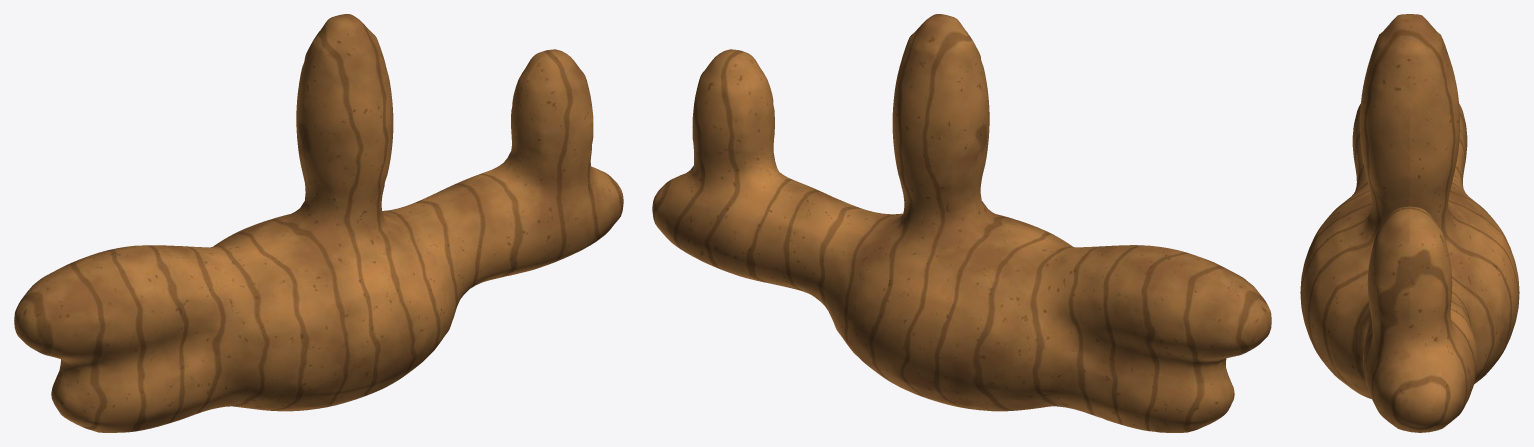
File: curcuma.glb
3 renders of one model, left to right at view 1: azimuth 30°, elevation 25°; view 2: azimuth 150°, elevation 25°; view 3: azimuth 270°, elevation 25°, orthographic. The views are drawn at different scales.
Visible parts, largest first — view 1: moitie_A_peau, entier_peau, moitie_B_peau; view 2: moitie_B_peau, entier_peau, moitie_A_peau; view 3: entier_peau, moitie_B_peau, moitie_A_peau.
Boxes of the visible parts, left/top/right/bottom form: moitie_A_peau: left=19, top=20, right=623, bottom=432; entier_peau: left=14, top=14, right=621, bottom=432; moitie_B_peau: left=14, top=14, right=617, bottom=413; moitie_B_peau: left=652, top=17, right=1266, bottom=432; entier_peau: left=652, top=14, right=1270, bottom=432; moitie_A_peau: left=721, top=14, right=1271, bottom=413; entier_peau: left=1300, top=14, right=1519, bottom=432; moitie_B_peau: left=1410, top=14, right=1518, bottom=432; moitie_A_peau: left=1300, top=15, right=1409, bottom=431.
Size of the model in its own units: 0.0701 by 0.041 by 0.0213.
Materials: 2 (2 with a texture image).
